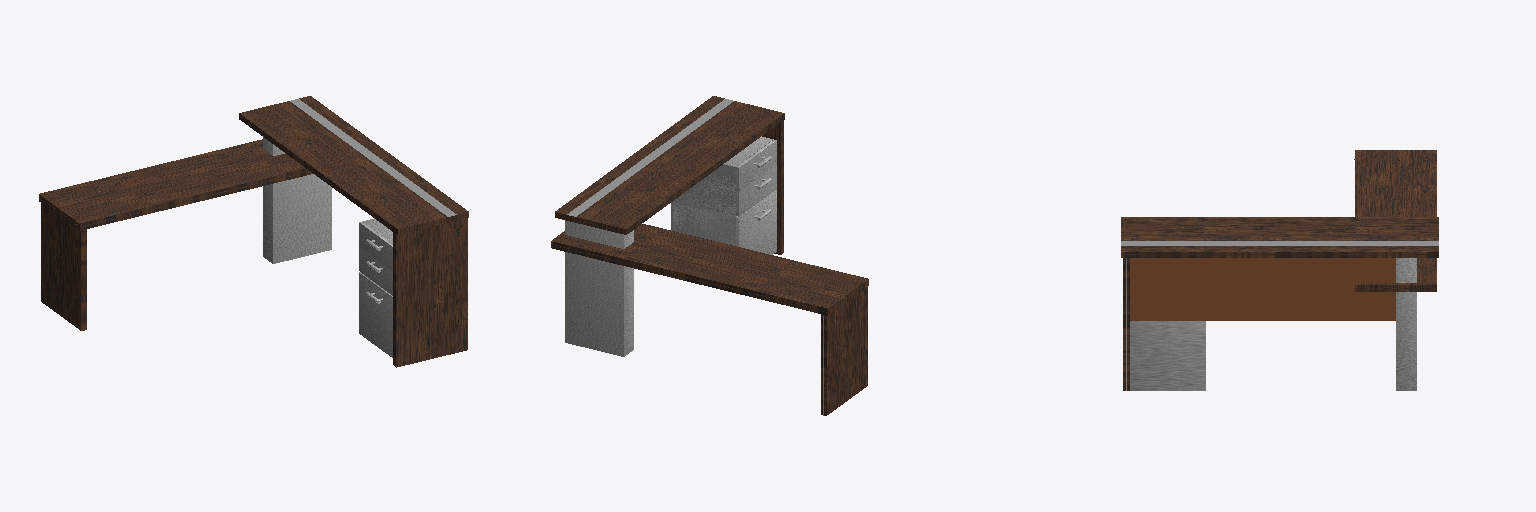
3 views of the same model, side by side, from view 1: azimuth 30°, elevation 25°; view 2: azimuth 150°, elevation 25°; view 3: azimuth 270°, elevation 25° (orthographic).
Parts seen in each view (by area): view 1: Box002, Desk, Box009, Box007, Box009.001_Box009.002, Drawer5, WhitePiece, Drawer3, Drawer4; view 2: Box002, Desk, Box007, Box009.001_Box009.002, Drawer5, Box003, Drawer4, Drawer3, WhitePiece, Box009; view 3: Box005, Desk, Box002, Box003, Box007, WhitePiece, Box009.
Boxes of the visible parts, x1=… form: Box002: x1=39, y1=139, x2=312, y2=230; Desk: x1=239, y1=96, x2=468, y2=234; Box009: x1=393, y1=218, x2=467, y2=367; Box007: x1=263, y1=137, x2=331, y2=263; Box009.001_Box009.002: x1=41, y1=203, x2=86, y2=330; Drawer5: x1=359, y1=272, x2=392, y2=357; WhitePiece: x1=290, y1=99, x2=456, y2=216; Drawer3: x1=359, y1=222, x2=392, y2=270; Drawer4: x1=359, y1=247, x2=392, y2=295; Box002: x1=551, y1=224, x2=868, y2=315; Desk: x1=555, y1=96, x2=784, y2=234; Box007: x1=565, y1=220, x2=633, y2=356; Box009.001_Box009.002: x1=821, y1=287, x2=867, y2=415; Drawer5: x1=673, y1=190, x2=776, y2=254; Box003: x1=671, y1=136, x2=773, y2=245; Drawer4: x1=674, y1=165, x2=776, y2=216; Drawer3: x1=700, y1=140, x2=776, y2=191; WhitePiece: x1=567, y1=99, x2=733, y2=216; Box009: x1=762, y1=120, x2=783, y2=254; Box005: x1=1130, y1=258, x2=1395, y2=320; Desk: x1=1121, y1=217, x2=1438, y2=257; Box002: x1=1355, y1=150, x2=1436, y2=291; Box003: x1=1130, y1=321, x2=1205, y2=390; Box007: x1=1396, y1=258, x2=1416, y2=390; WhitePiece: x1=1121, y1=241, x2=1438, y2=245; Box009: x1=1123, y1=258, x2=1129, y2=390.
Bounding box in the file's own units: 83.98 × 40.2 × 83.22.
5 materials, 2 textured.